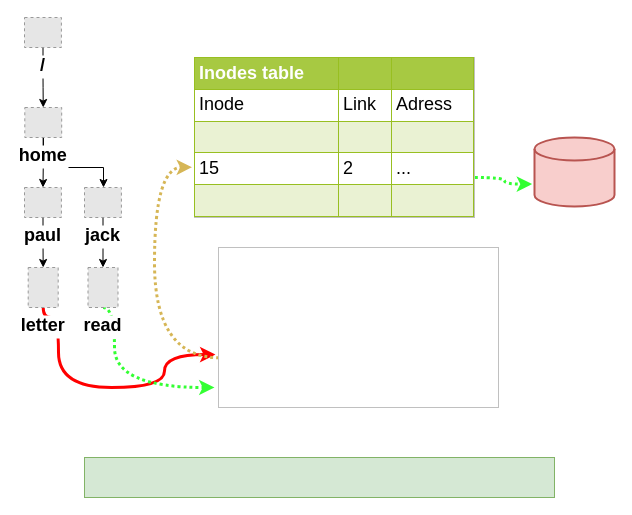
This 632x515 diagram has some shape labels left out. Grey dashed boxes stand in for pictures. The shapes that lost their labels are listed below. From the top down, each one's centre as x and y in pixels, then its label:
At point 574,171: "data".
At point 358,327: "Catalogue table Inode Name 15 letter 15 read".
At point 319,477: "Representation of a physical link".
